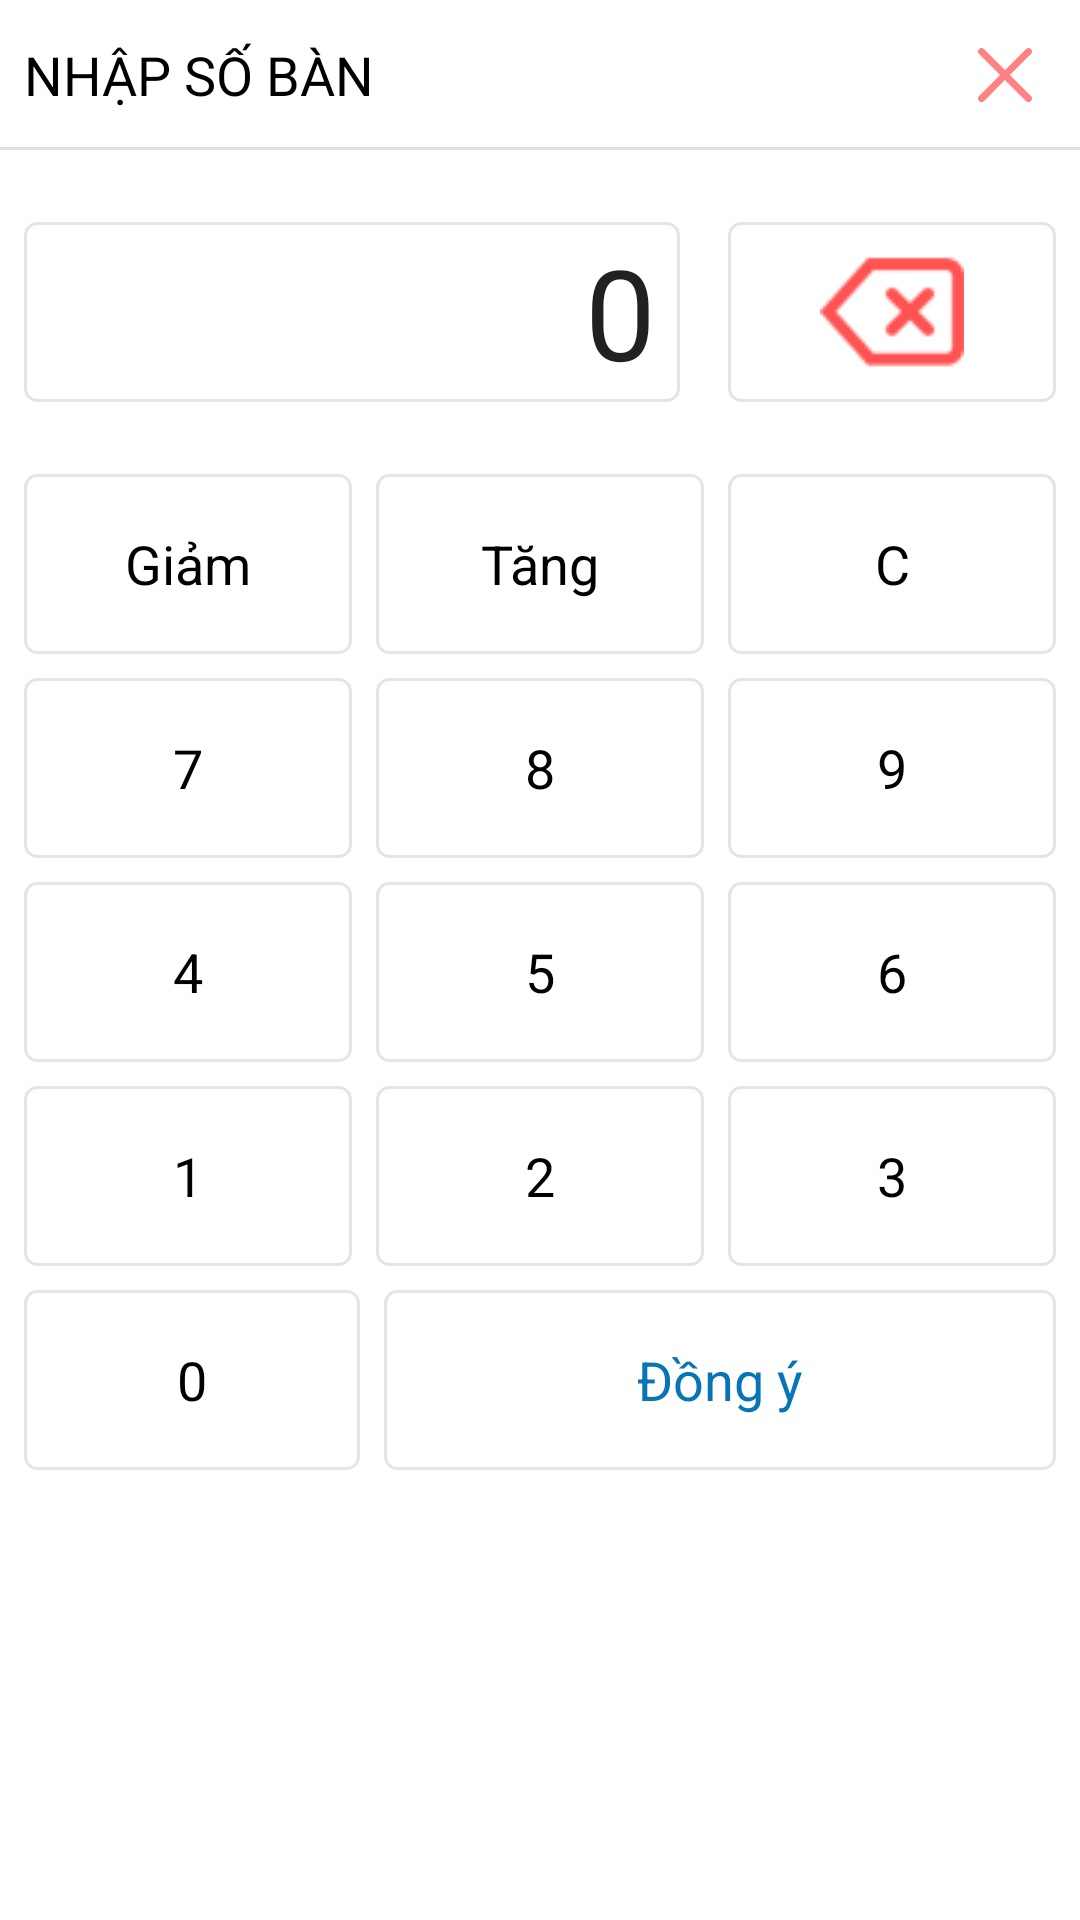

Named icons in this screenshot (1080w x 1920h) and their centers, (x=x, y=y):
close: (x=1005, y=75)
